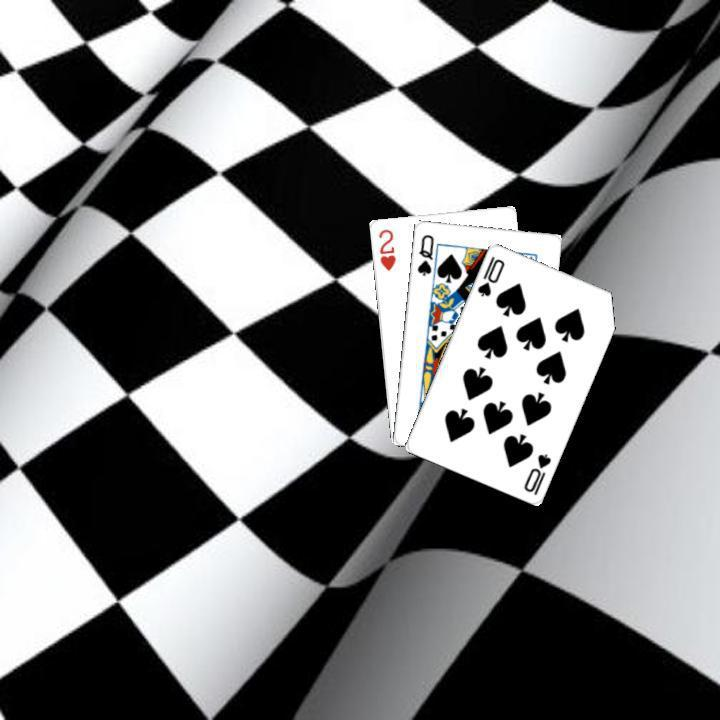10: (519, 449, 553, 496), (473, 251, 506, 298)
2: (374, 224, 397, 273)
Q: (412, 230, 435, 278)
